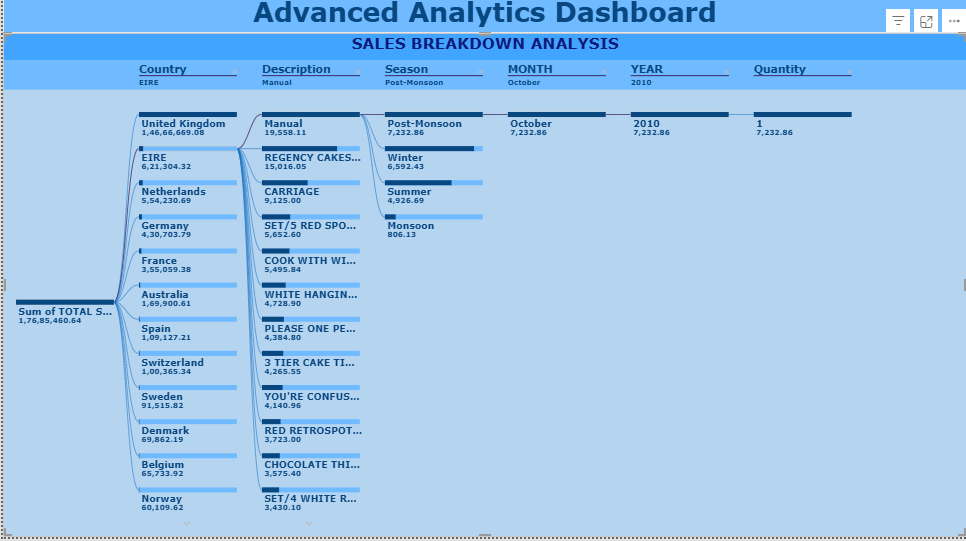

The page's visual inventory and layout, read from the dashboard file:
{"tool":"powerbi","page":{"name":"Advanced Analytics Dashboard","canvas":[1920,1080],"ordinal":10},"visuals":[{"type":"textbox","box":[0,0,1920,75.6],"z":0},{"type":"decompositionTreeVisual","title":"SALES BREAKDOWN ANALYSIS","fields":{"Analyze":["Sum(CLEANED.TOTAL SALES)"],"ExplainBy":["CLEANED.Country","CLEANED.Description","CLEANED.Season","CLEANED.MONTH","CLEANED.YEAR","CLEANED.Quantity"]},"box":[0,76.2,1920.2,1003.8],"z":1000}]}

Visuals, with their boxes in screenshot pixels (x1, y1, x2, y2), scaled from the page's 1920x1080 canvas onto the 966x541 screenshot:
textbox: {"x1": 0, "y1": 0, "x2": 965, "y2": 38}
"SALES BREAKDOWN ANALYSIS" decompositionTreeVisual: {"x1": 0, "y1": 38, "x2": 965, "y2": 540}
